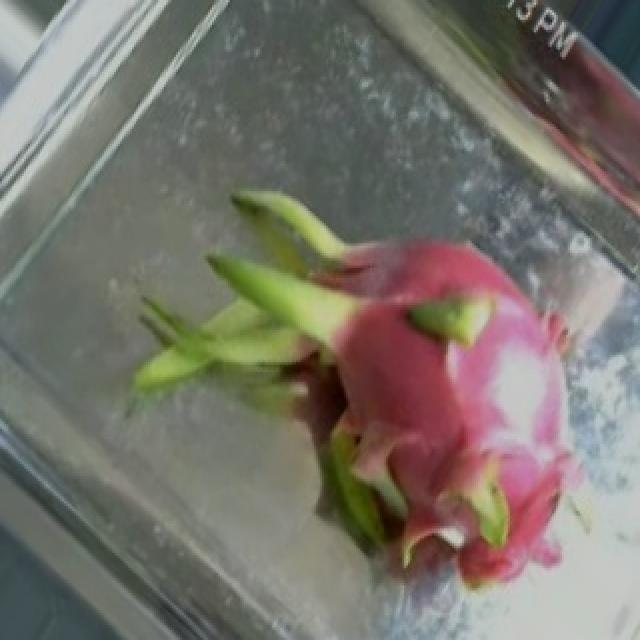fruit: (206, 183, 634, 640), (404, 0, 640, 352)
